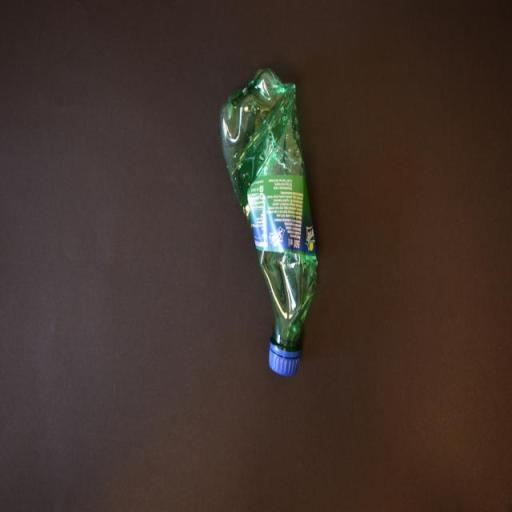plastic: (220, 66, 322, 378)
